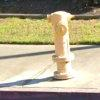a fire hydrant: (45, 9, 77, 82)
